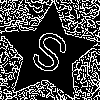S: (23, 28, 72, 84)
